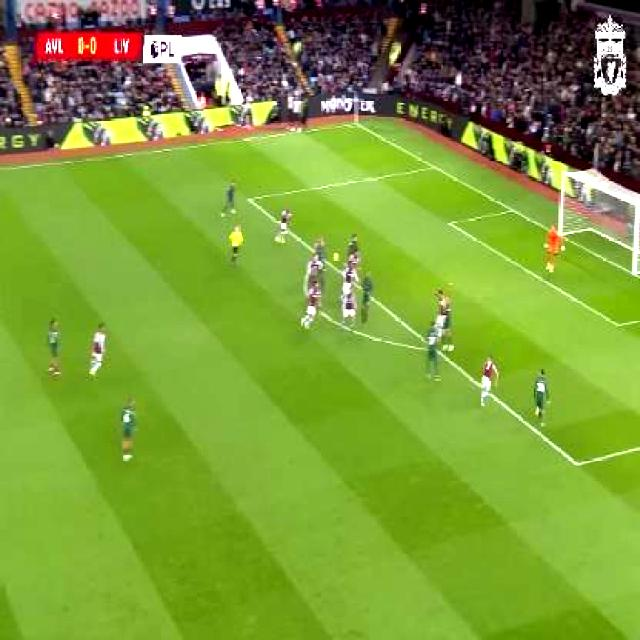bigarea_bottom_inner: (569, 451, 585, 475)
bigarea_top_inner: (243, 189, 255, 208)
bigarea_top_outter: (429, 162, 438, 172)
corner: (349, 120, 360, 126)
smallarea_bottom_inner: (612, 316, 623, 332)
smallarea_top_inner: (443, 216, 454, 230)
smallarea_top_outter: (506, 204, 516, 216)
